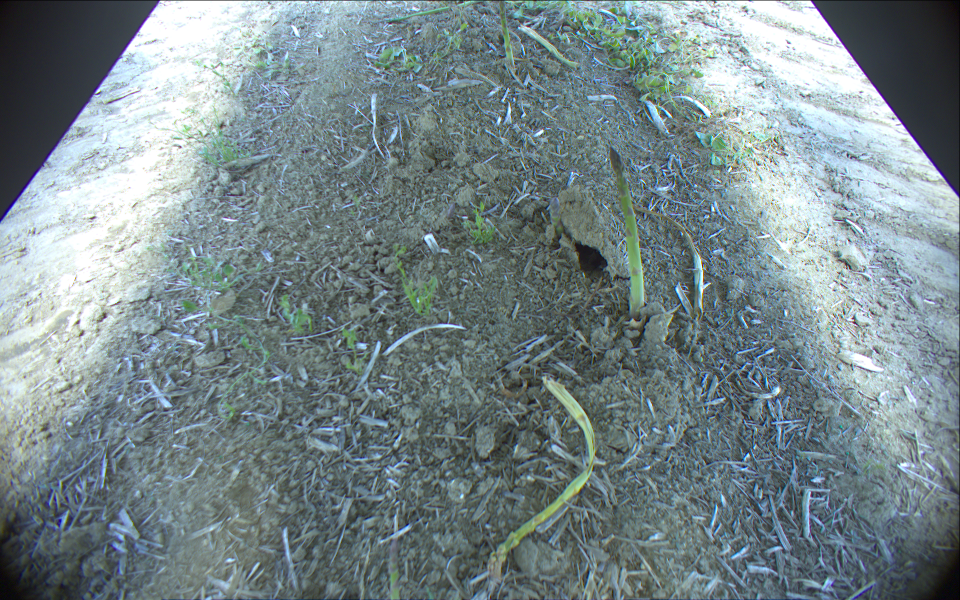aspa: (491, 377, 596, 557), (608, 145, 646, 316), (378, 1, 492, 22), (520, 26, 578, 67), (497, 1, 514, 66)
